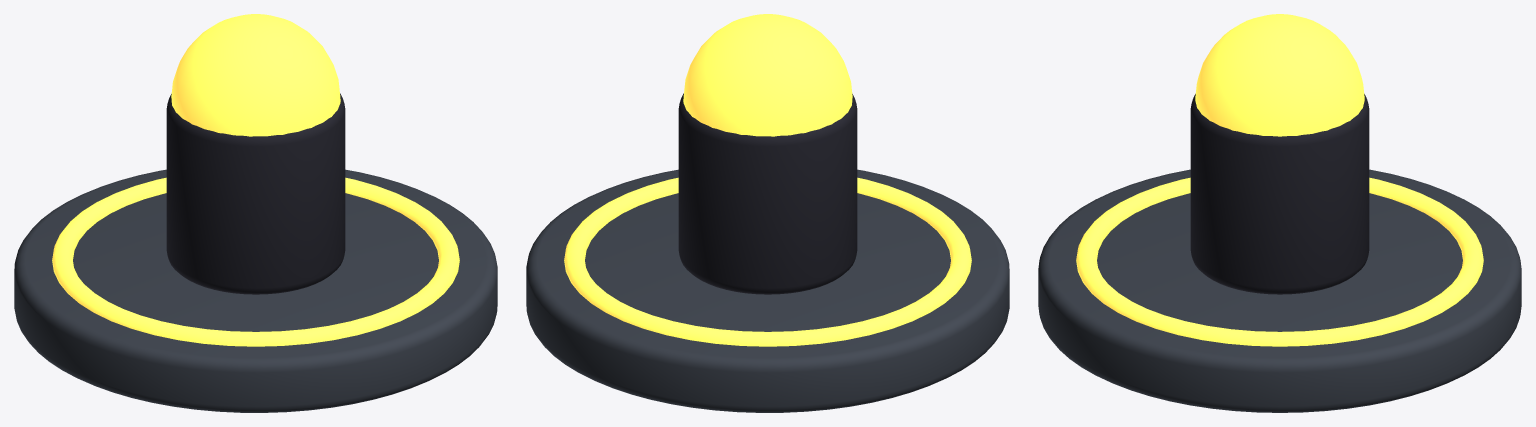
Rendered from rebatedor_p2.glb.
3 views of the same model, side by side, from view 1: azimuth 30°, elevation 25°; view 2: azimuth 150°, elevation 25°; view 3: azimuth 270°, elevation 25° (orthographic).
Parts seen in each view (by area): view 1: Striker_P2_Base, Striker_P2_Knob, Striker_P2_Dome, Striker_P2_NeonRing; view 2: Striker_P2_Base, Striker_P2_Knob, Striker_P2_Dome, Striker_P2_NeonRing; view 3: Striker_P2_Base, Striker_P2_Knob, Striker_P2_Dome, Striker_P2_NeonRing.
Boxes of the visible parts, box(x1,y1,x2,y2) form: Striker_P2_Base: box(14, 169, 497, 412); Striker_P2_Knob: box(166, 93, 345, 294); Striker_P2_Dome: box(171, 14, 340, 136); Striker_P2_NeonRing: box(52, 177, 459, 346); Striker_P2_Base: box(526, 169, 1009, 412); Striker_P2_Knob: box(678, 93, 857, 294); Striker_P2_Dome: box(683, 14, 852, 136); Striker_P2_NeonRing: box(564, 177, 971, 346); Striker_P2_Base: box(1038, 169, 1521, 412); Striker_P2_Knob: box(1190, 94, 1369, 294); Striker_P2_Dome: box(1195, 14, 1364, 136); Striker_P2_NeonRing: box(1076, 177, 1483, 346).
Bounding box in the file's own units: 0.13 × 0.0868 × 0.13.
